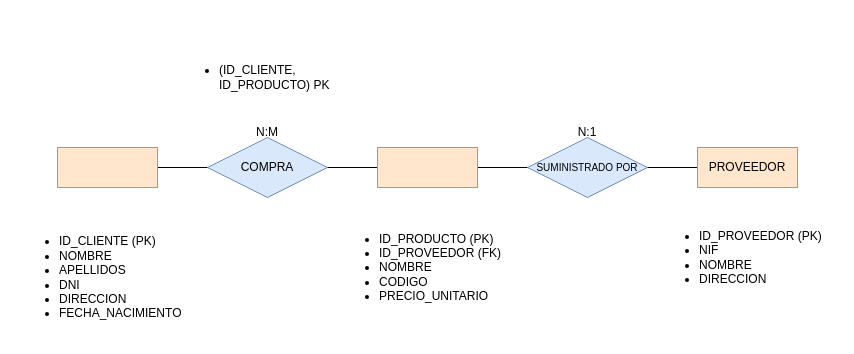
Image size: 854x354. Some labels were removed from this diagram. The box of each missing label's shape, as (x1, y1, x2, y2) in pixels:
CLIENTE: (56, 146, 158, 188)
PRODUCTO: (376, 146, 478, 188)
